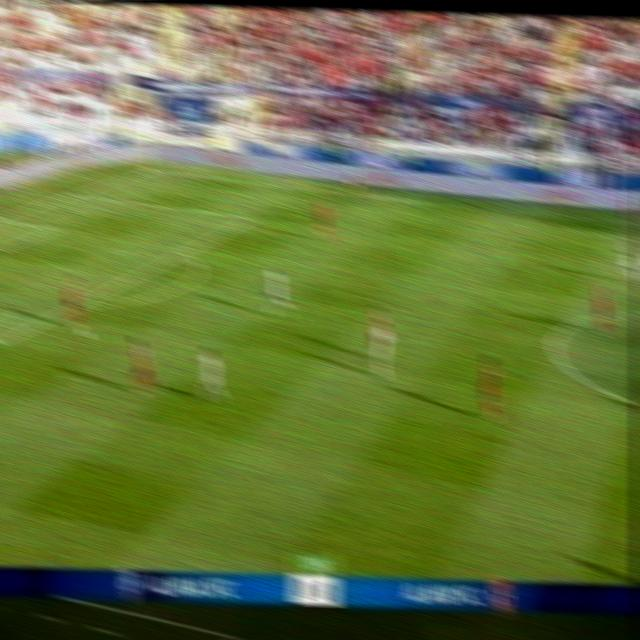bigarea_top_inner: (242, 210, 256, 224)
bigarea_top_outter: (70, 190, 82, 197)
corner: (143, 165, 157, 173)
smallarea_top_inner: (48, 223, 63, 234)
smallarea_top_outter: (0, 212, 9, 225)
top_arc_area_intersection: (177, 244, 191, 256)
